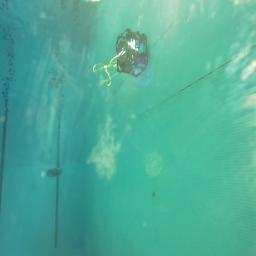Full: (46, 167, 62, 177)
front: (116, 44, 148, 77)
